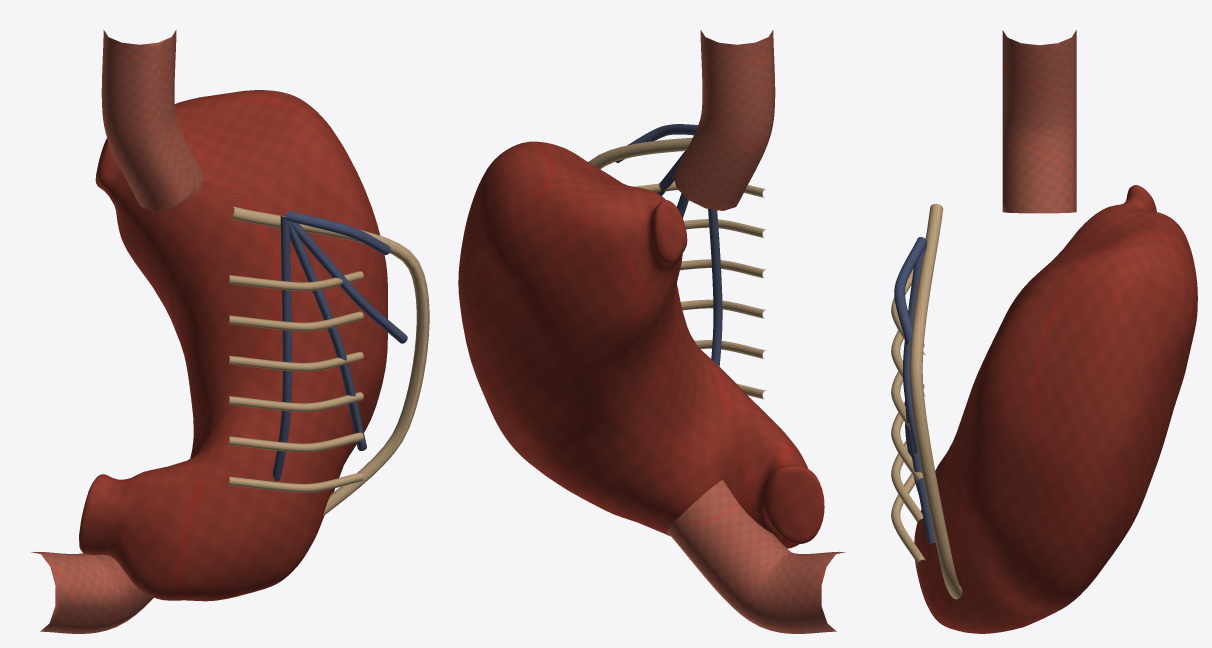
File: stomach.d20b9824.glb
The picture shows the model from 3 angles, left to right: view 1: azimuth 30°, elevation 25°; view 2: azimuth 150°, elevation 25°; view 3: azimuth 270°, elevation 25°; orthographic projection.
Parts seen in each view (by area): view 1: Stomach body, procedural-stomach-surface-1, procedural-stomach-surface-2, procedural-stomach-surface-3, procedural-stomach-surface-13, procedural-stomach-surface-12, procedural-stomach-surface-11, procedural-stomach-surface-5, procedural-stomach-surface-8, procedural-stomach-surface-9, procedural-stomach-surface-7, procedural-stomach-surface-6 (+2 smaller); view 2: Stomach body, procedural-stomach-surface-2, procedural-stomach-surface-1, procedural-stomach-surface-13, procedural-stomach-surface-3, procedural-stomach-surface-6, procedural-stomach-surface-7, procedural-stomach-surface-5, procedural-stomach-surface-10, procedural-stomach-surface-8; view 3: Stomach body, procedural-stomach-surface-1, procedural-stomach-surface-3, procedural-stomach-surface-10, procedural-stomach-surface-11, procedural-stomach-surface-12, procedural-stomach-surface-9, procedural-stomach-surface-8, procedural-stomach-surface-7, procedural-stomach-surface-6.
Part boxes in pixels (box(x1,y1,x2,y2)): Stomach body: box(79, 90, 387, 601); procedural-stomach-surface-1: box(101, 30, 203, 210); procedural-stomach-surface-2: box(31, 551, 153, 633); procedural-stomach-surface-3: box(230, 206, 429, 515); procedural-stomach-surface-13: box(273, 215, 291, 481); procedural-stomach-surface-12: box(284, 217, 366, 450); procedural-stomach-surface-11: box(284, 218, 407, 343); procedural-stomach-surface-5: box(228, 311, 363, 331); procedural-stomach-surface-8: box(228, 432, 363, 452); procedural-stomach-surface-9: box(228, 472, 363, 492); procedural-stomach-surface-7: box(228, 392, 363, 411); procedural-stomach-surface-6: box(228, 351, 363, 371); Stomach body: box(458, 141, 824, 548); procedural-stomach-surface-2: box(667, 480, 845, 633); procedural-stomach-surface-1: box(673, 30, 775, 210); procedural-stomach-surface-13: box(708, 209, 722, 366); procedural-stomach-surface-3: box(588, 137, 692, 169); procedural-stomach-surface-6: box(680, 259, 766, 278); procedural-stomach-surface-7: box(680, 299, 766, 318); procedural-stomach-surface-5: box(683, 219, 765, 237); procedural-stomach-surface-10: box(615, 124, 698, 162); procedural-stomach-surface-8: box(694, 340, 766, 358); Stomach body: box(914, 185, 1197, 633); procedural-stomach-surface-1: box(1002, 30, 1076, 213); procedural-stomach-surface-3: box(909, 203, 962, 599); procedural-stomach-surface-10: box(894, 237, 927, 344); procedural-stomach-surface-11: box(903, 243, 926, 453); procedural-stomach-surface-12: box(905, 402, 935, 543); procedural-stomach-surface-9: box(891, 473, 925, 563); procedural-stomach-surface-8: box(891, 441, 923, 522); procedural-stomach-surface-7: box(891, 383, 924, 481); procedural-stomach-surface-6: box(891, 344, 924, 430).
Size of the model in its own units: 2.07 by 3.21 by 1.49.
Materials: 4 (4 with a texture image).
